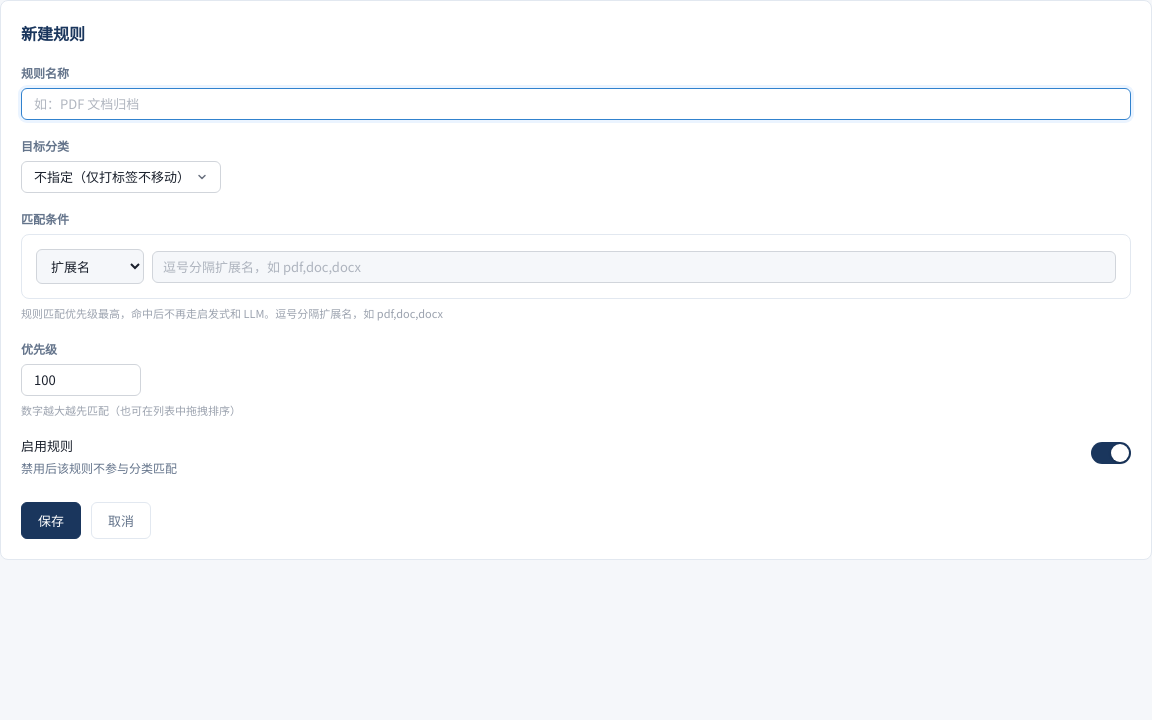
Test case: RuleForm › rejects invalid regex pattern
The width and height of the screenshot is (1152, 720).
Select "正则表达式" in the dropdown named "规则类型" at (90, 267), box [36,249,144,284]
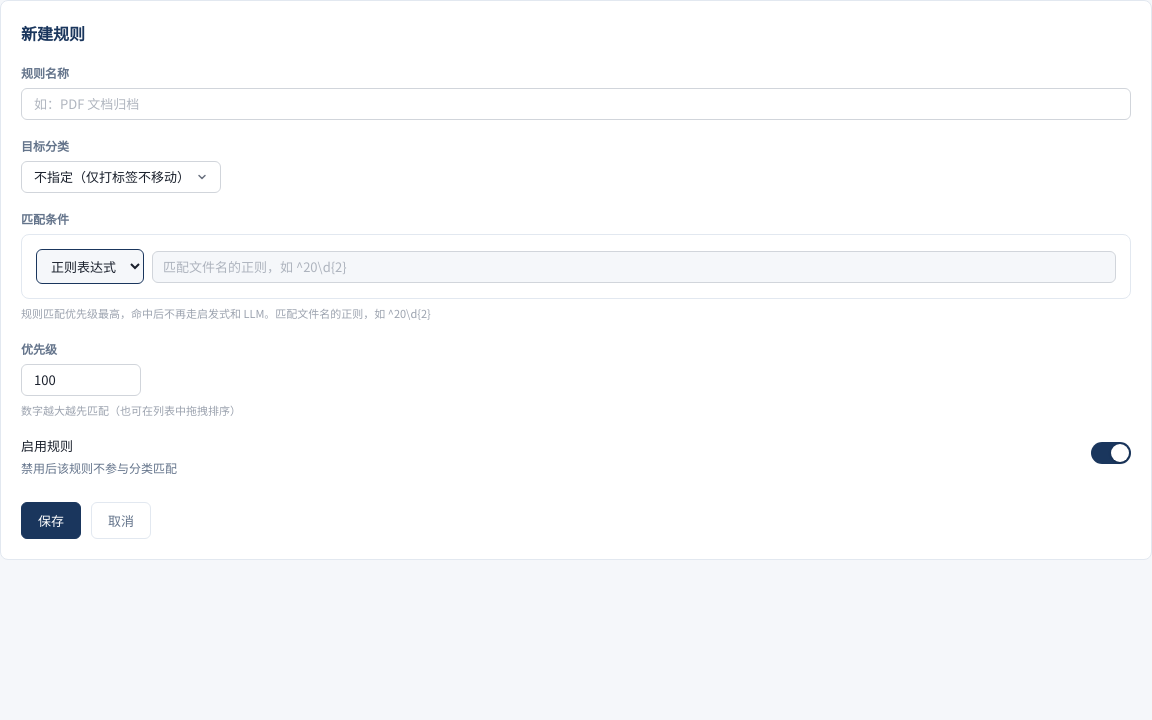
Type "规则" into the field labelled "规则名称" at (576, 104), box [21,88,1131,120]
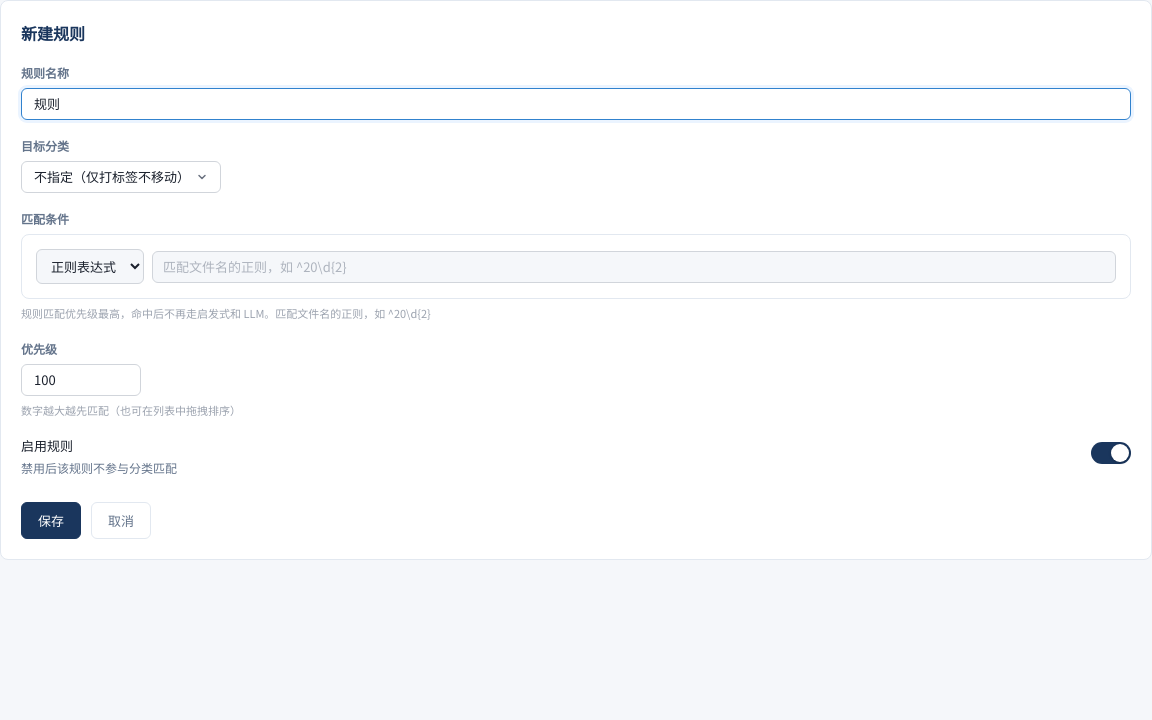
Type "(" into the field named "匹配模式" at (634, 267), box [152,251,1116,283]
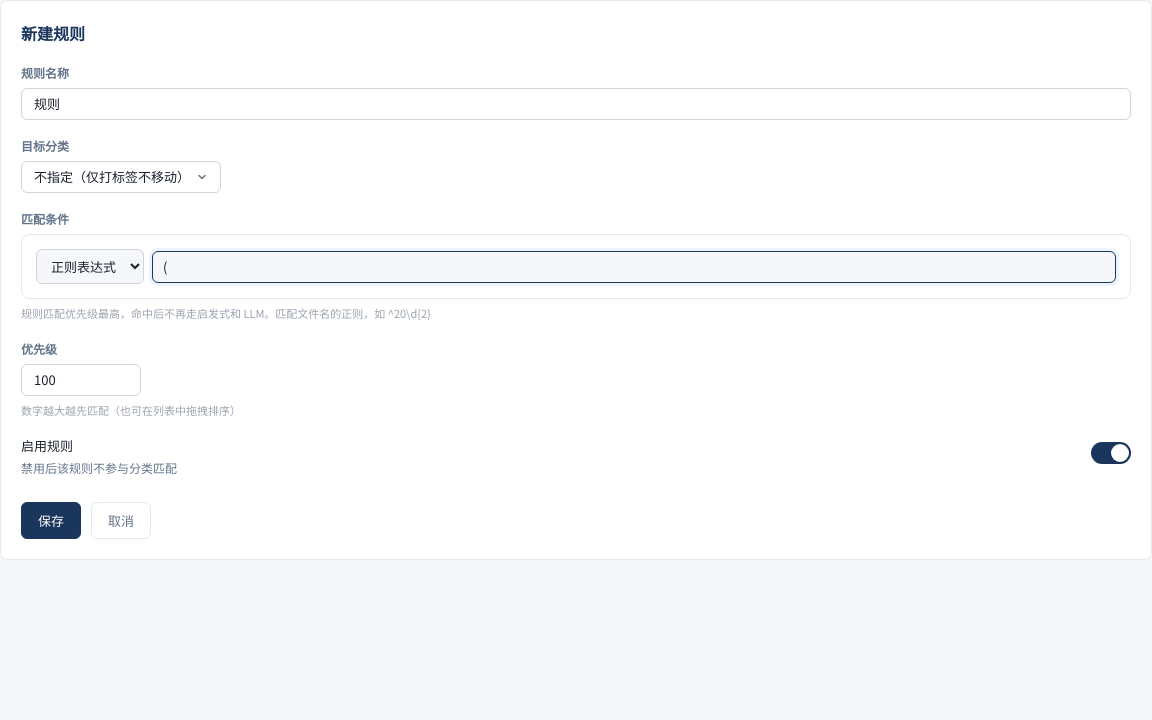
Click the button "保存" at (51, 520), box [21,502,81,538]
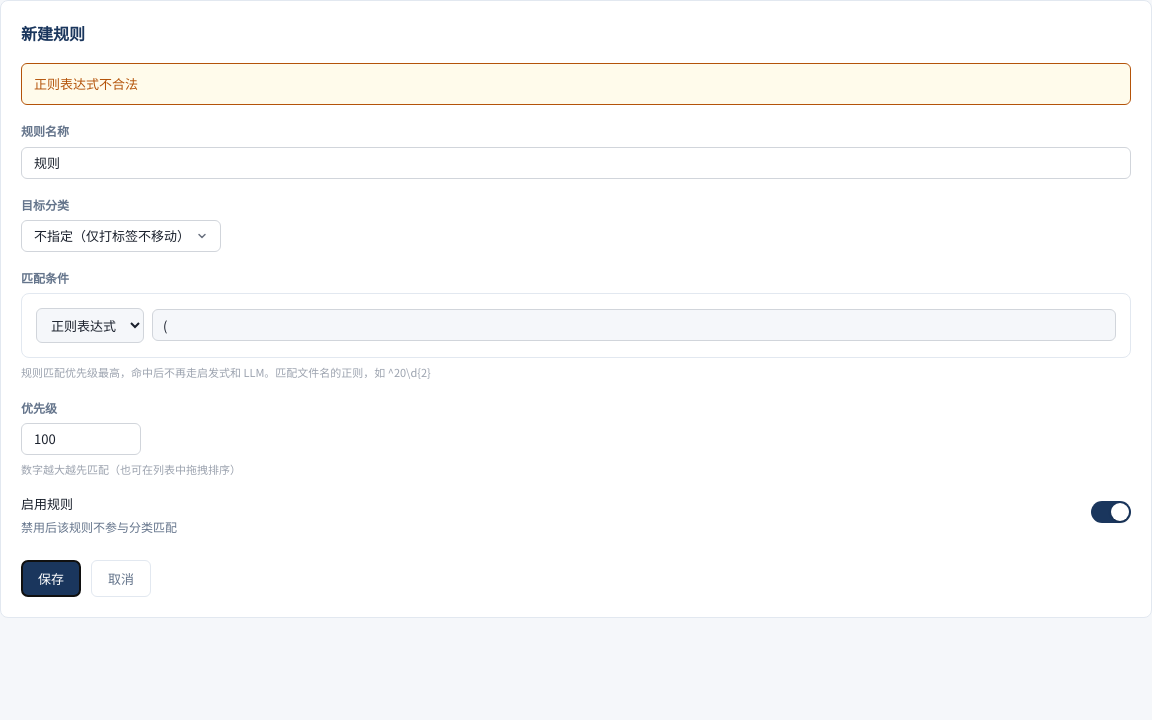
Check: the message reads "正则表达式不合法", box [34,74,138,93]
